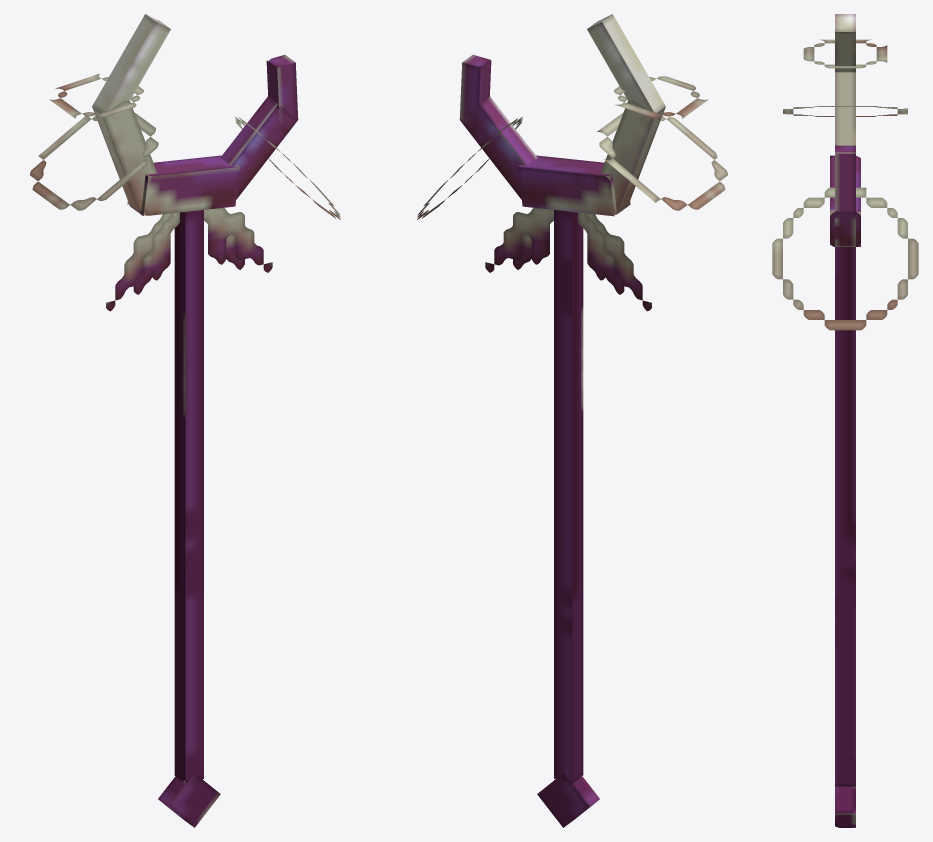
Rendered from demeter.obj.
3 views of the same model, side by side, from view 1: azimuth 30°, elevation 25°; view 2: azimuth 150°, elevation 25°; view 3: azimuth 270°, elevation 25° (orthographic). The views are drawn at different scales.
Visible parts, largest first — view 1: cube_1, cube_11, cube_3, cube_6, cube_5, cube_4, cube_8, cube_2, cube_7, cube_9; view 2: cube_1, cube_11, cube_3, cube_6, cube_5, cube_4, cube_8, cube_2, cube_7, cube_9; view 3: cube_1, cube_10, cube_4, cube_7, cube_5, cube_2, cube_3, cube_9, cube_6, cube_8.
Boxes of the visible parts, left/top/right/bottom form: cube_1: left=174, top=210, right=203, bottom=783; cube_11: left=106, top=208, right=272, bottom=311; cube_3: left=127, top=155, right=239, bottom=215; cube_6: left=220, top=96, right=297, bottom=199; cube_5: left=92, top=14, right=170, bottom=119; cube_4: left=92, top=100, right=157, bottom=213; cube_8: left=30, top=112, right=158, bottom=210; cube_2: left=158, top=773, right=220, bottom=827; cube_7: left=266, top=54, right=298, bottom=124; cube_9: left=49, top=73, right=143, bottom=118; cube_1: left=554, top=210, right=583, bottom=783; cube_11: left=485, top=208, right=651, bottom=311; cube_3: left=518, top=155, right=630, bottom=216; cube_6: left=460, top=96, right=537, bottom=199; cube_5: left=587, top=14, right=665, bottom=121; cube_4: left=600, top=100, right=665, bottom=213; cube_8: left=597, top=112, right=727, bottom=210; cube_2: left=537, top=773, right=599, bottom=827; cube_7: left=459, top=54, right=491, bottom=124; cube_9: left=614, top=76, right=708, bottom=119; cube_1: left=835, top=247, right=855, bottom=786; cube_10: left=772, top=187, right=918, bottom=330; cube_4: left=835, top=72, right=855, bottom=145; cube_7: left=835, top=145, right=855, bottom=211; cube_5: left=835, top=14, right=855, bottom=72; cube_2: left=835, top=786, right=855, bottom=827; cube_3: left=830, top=155, right=860, bottom=246; cube_9: left=803, top=39, right=887, bottom=68; cube_6: left=835, top=211, right=855, bottom=246; cube_8: left=783, top=106, right=907, bottom=116.
Size of the model in its own units: 0.9481 by 2.63 by 0.4375.
